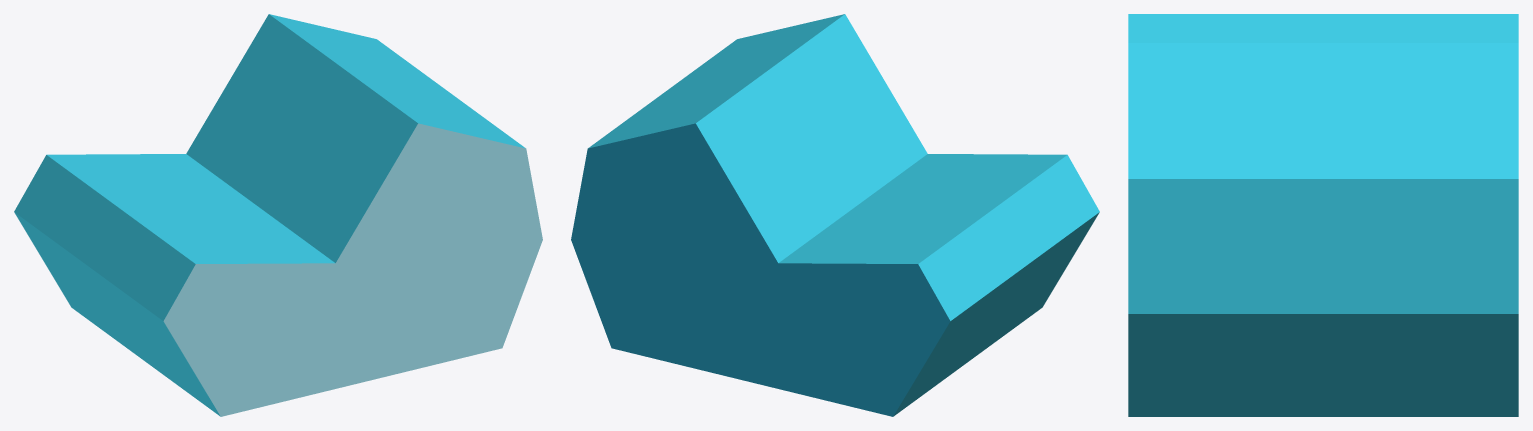
File: D_FBX_07_DesT_Wall_16.fbx
The picture shows the model from 3 angles, left to right: view 1: azimuth 30°, elevation 25°; view 2: azimuth 150°, elevation 25°; view 3: azimuth 270°, elevation 25°; orthographic projection. The views are drawn at different scales.
Parts seen in each view (by area): view 1: D_FBX_07_DesT_Wall_16; view 2: D_FBX_07_DesT_Wall_16; view 3: D_FBX_07_DesT_Wall_16.
Part boxes in pixels (bbox=[...]): D_FBX_07_DesT_Wall_16: bbox=[14, 14, 542, 416]; D_FBX_07_DesT_Wall_16: bbox=[571, 14, 1099, 416]; D_FBX_07_DesT_Wall_16: bbox=[1128, 14, 1518, 416].
Size of the model in its own units: 165 by 102 by 112.
